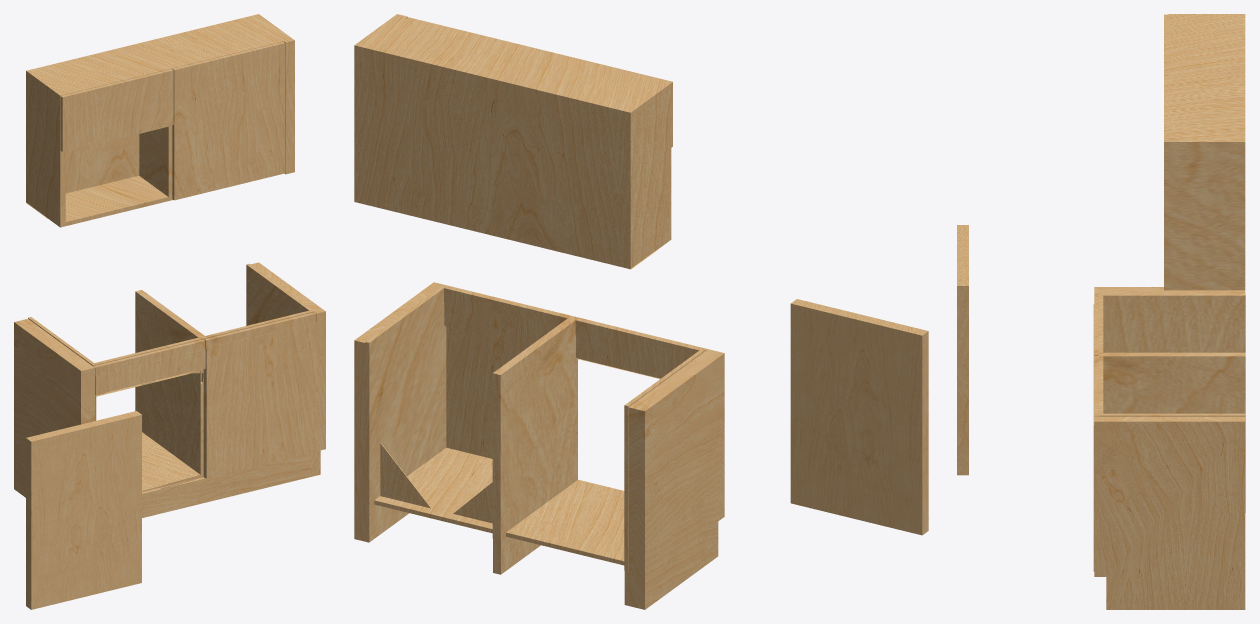
The model's file is kitchen.gltf.
3 renders of one model, left to right at view 1: azimuth 30°, elevation 25°; view 2: azimuth 150°, elevation 25°; view 3: azimuth 270°, elevation 25°, orthographic. The views are drawn at different scales.
Visible parts, largest first — view 1: kitchen; view 2: kitchen; view 3: kitchen.
Part boxes in pixels (x1=…): kitchen: x1=14, y1=14, x2=325, y2=609; kitchen: x1=354, y1=14, x2=928, y2=609; kitchen: x1=957, y1=14, x2=1245, y2=609.
Size of the model in its own units: 1.93 by 2.15 by 1.2.
Materials: 1 (1 with a texture image).
